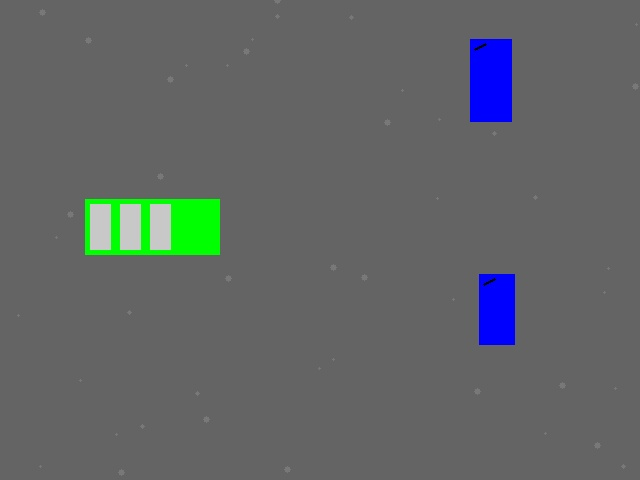bus: (85, 199, 219, 254)
motorcycle: (470, 39, 511, 121), (479, 274, 514, 344)
